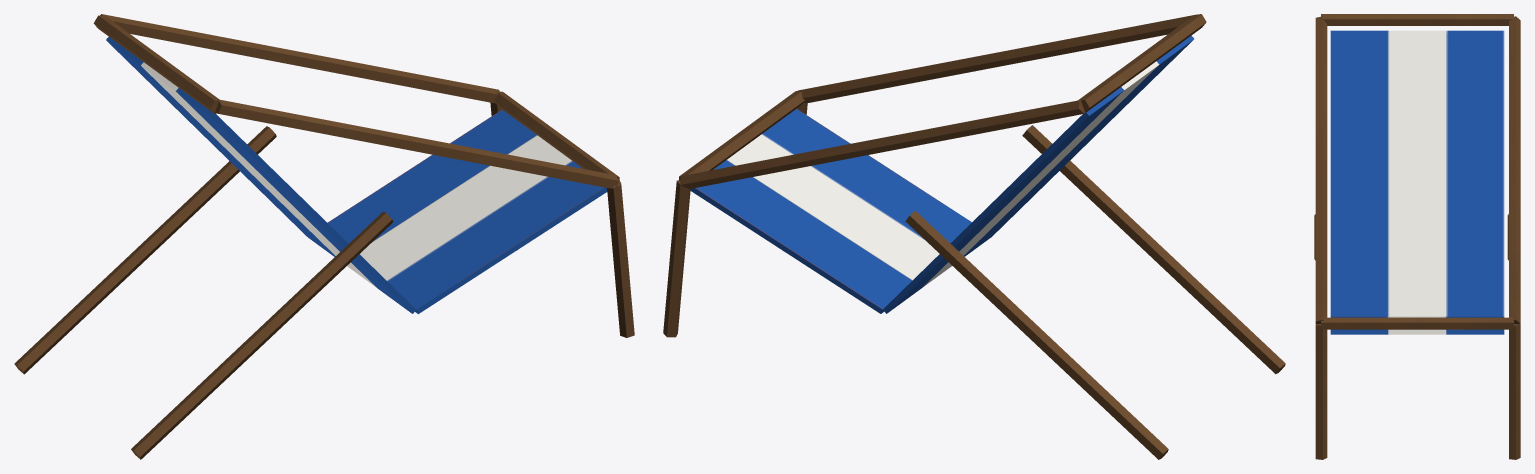
Rendered from lehatko_d2e98c0f.glb.
The picture shows the model from 3 angles, left to right: view 1: azimuth 30°, elevation 25°; view 2: azimuth 150°, elevation 25°; view 3: azimuth 270°, elevation 25°; orthographic projection. The views are drawn at different scales.
Parts seen in each view (by area): view 1: dum; view 2: dum; view 3: dum.
Part boxes in pixels (<box>): dum: <box>14,14,634,459</box>; dum: <box>663,14,1285,459</box>; dum: <box>1314,14,1520,459</box>.
Bounding box in the file's own units: 1.49 × 0.9624 × 0.6383.
Materials: 1 (1 with a texture image).
